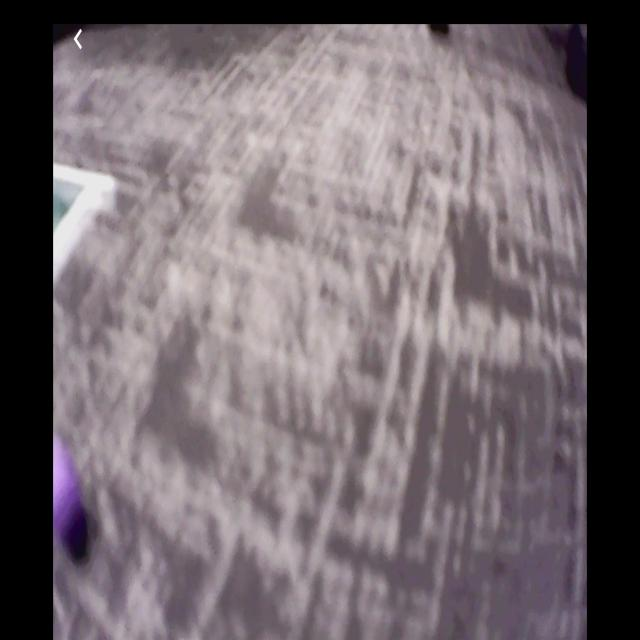ball: (55, 448, 88, 548)
